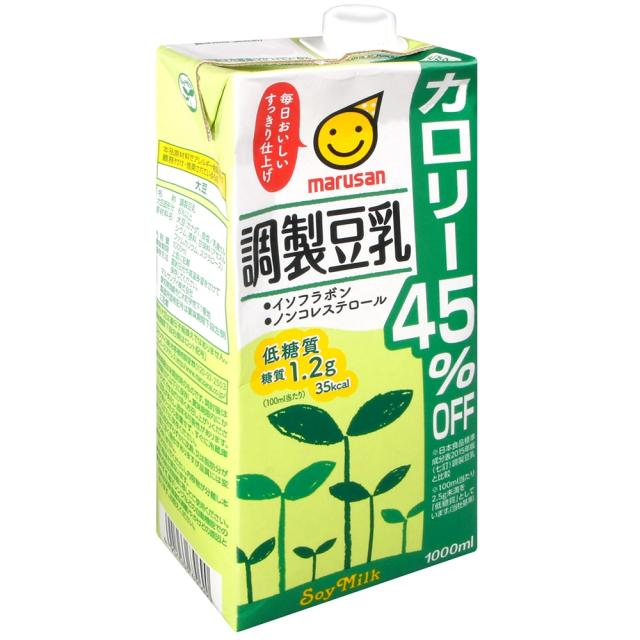Aluminium Foil: (154, 27, 481, 586)
